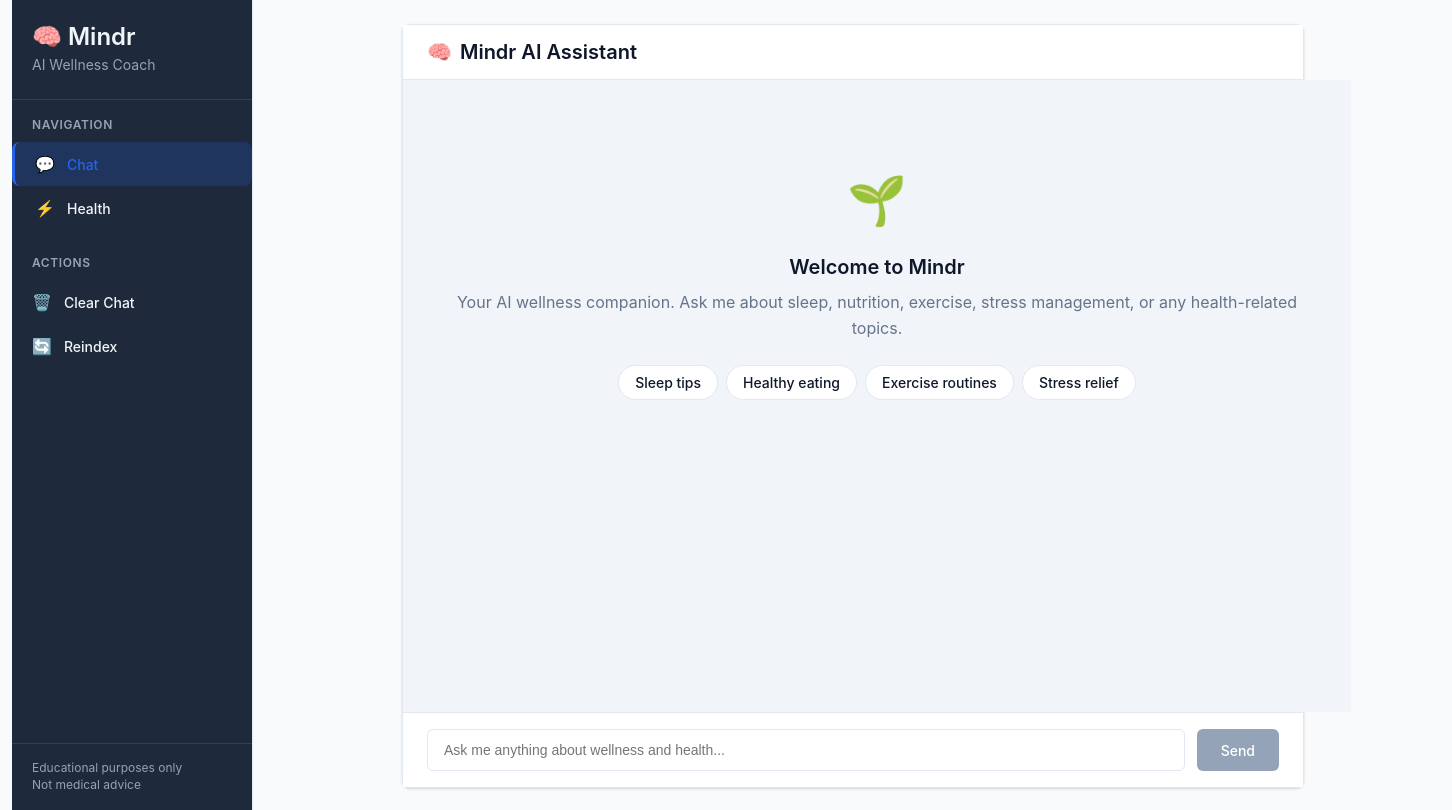
it: Health Component › shows correct status indicator for healthy system
The width and height of the screenshot is (1452, 810).
Click the button "⚡ Health" at {"x": 132, "y": 208}, box [12,186,252,230]
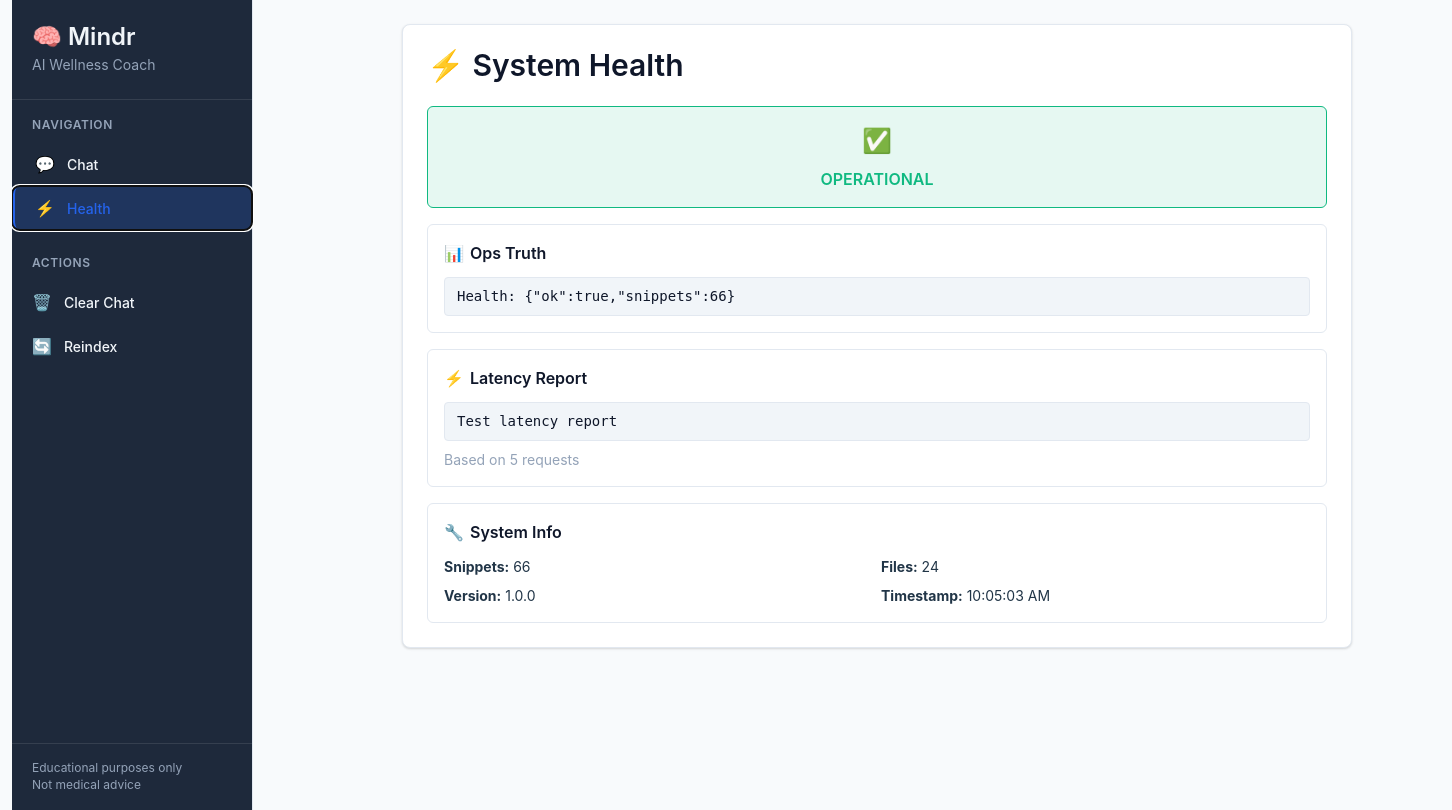
Result: the text "✅" is shown at [862,126,892,155]
Result: the text "OPERATIONAL" is shown at [820,169,934,189]
